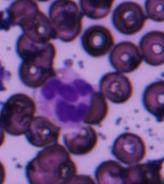N: (37, 68, 96, 130)
